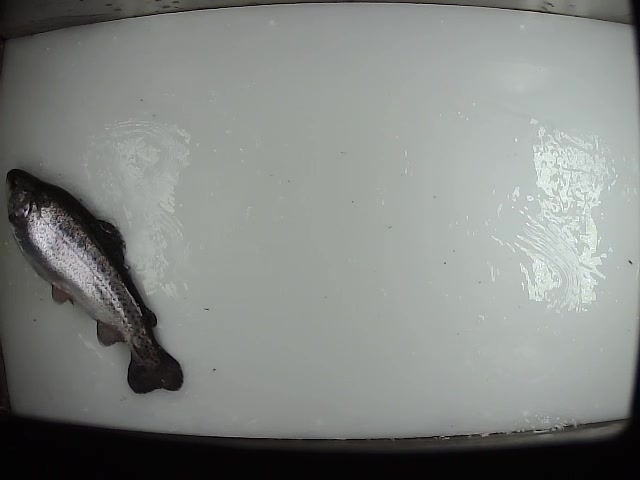fish: (1, 166, 188, 394)
